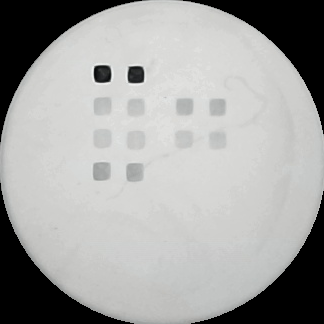检查点: (172, 127, 197, 151), (124, 128, 149, 152), (126, 61, 147, 87), (92, 96, 116, 118), (206, 130, 231, 151), (125, 96, 147, 119), (207, 96, 229, 119), (90, 160, 113, 182), (92, 127, 114, 150), (92, 62, 113, 85), (174, 96, 197, 117), (124, 162, 145, 184)
